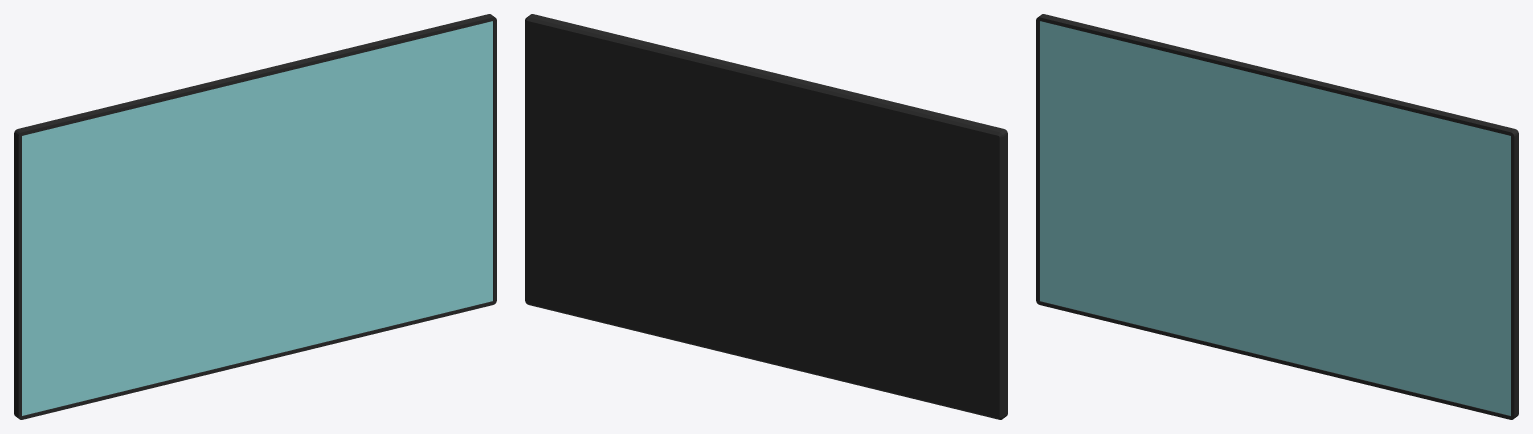
The model's file is InfoScreen.gltf.
3 views of the same model, side by side, from view 1: azimuth 30°, elevation 25°; view 2: azimuth 150°, elevation 25°; view 3: azimuth 330°, elevation 25° (orthographic).
Visible parts, largest first — view 1: Screen.; view 2: Screen.; view 3: Screen..
Boxes of the visible parts, x1=… form: Screen.: x1=14, y1=14, x2=496, y2=419; Screen.: x1=525, y1=14, x2=1007, y2=419; Screen.: x1=1036, y1=14, x2=1518, y2=419.
Bounding box in the file's own units: 1.39 × 0.8 × 0.03.
